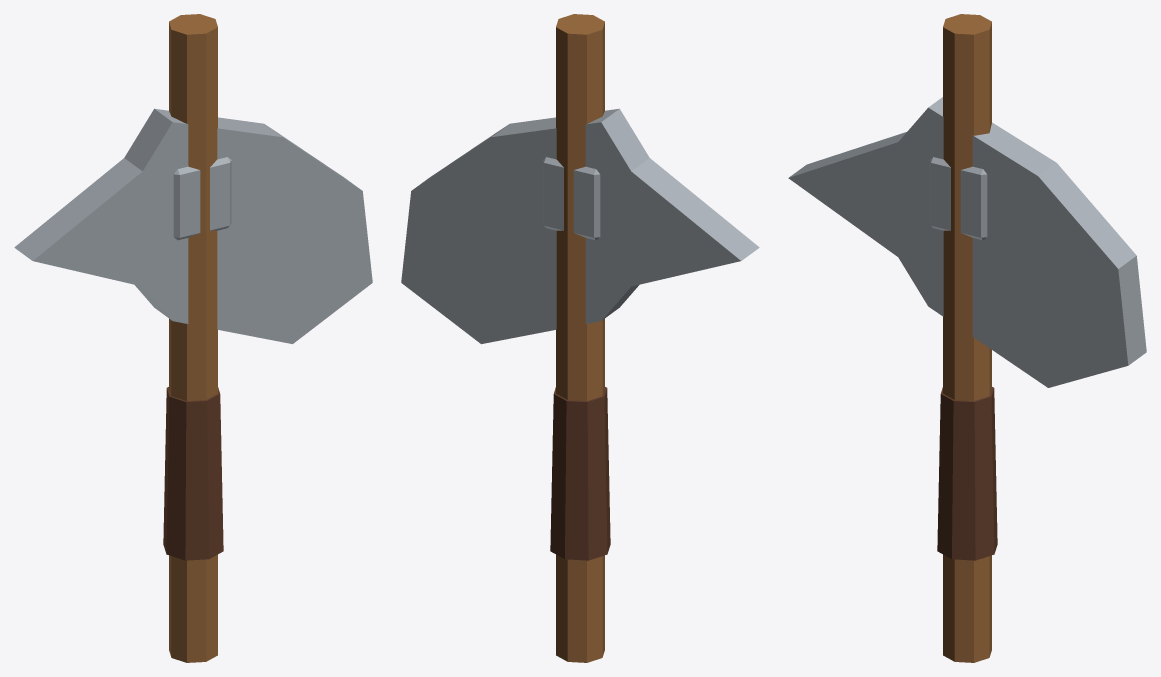
File: freydis-axe.glb
The picture shows the model from 3 angles, left to right: view 1: azimuth 30°, elevation 25°; view 2: azimuth 150°, elevation 25°; view 3: azimuth 330°, elevation 25°; orthographic projection.
Visible parts, largest first — view 1: Axe_Blade, Axe_Handle, Axe_Grip, Axe_Collar; view 2: Axe_Blade, Axe_Handle, Axe_Grip, Axe_Collar; view 3: Axe_Blade, Axe_Handle, Axe_Grip, Axe_Collar.
Part boxes in pixels (x1,y1,x2,y2): Axe_Blade: [14, 108, 372, 344]; Axe_Handle: [169, 14, 217, 662]; Axe_Grip: [163, 387, 223, 560]; Axe_Collar: [173, 157, 231, 240]; Axe_Blade: [401, 108, 759, 344]; Axe_Handle: [556, 14, 604, 662]; Axe_Grip: [550, 387, 610, 560]; Axe_Collar: [542, 157, 600, 240]; Axe_Blade: [788, 97, 1146, 387]; Axe_Handle: [943, 14, 991, 662]; Axe_Grip: [937, 387, 997, 560]; Axe_Collar: [929, 157, 987, 240].
Bounding box in the file's own units: 34 × 60 × 5.4.
